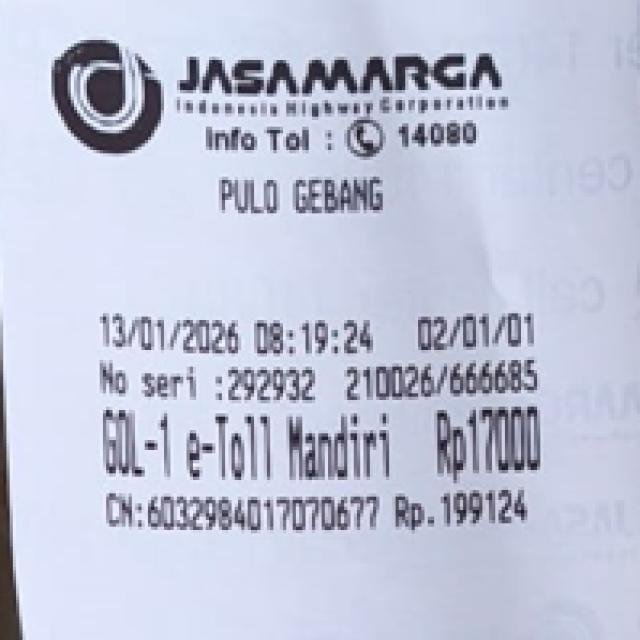date: (92, 306, 373, 358)
store: (165, 46, 522, 107)
total: (428, 410, 578, 474)
